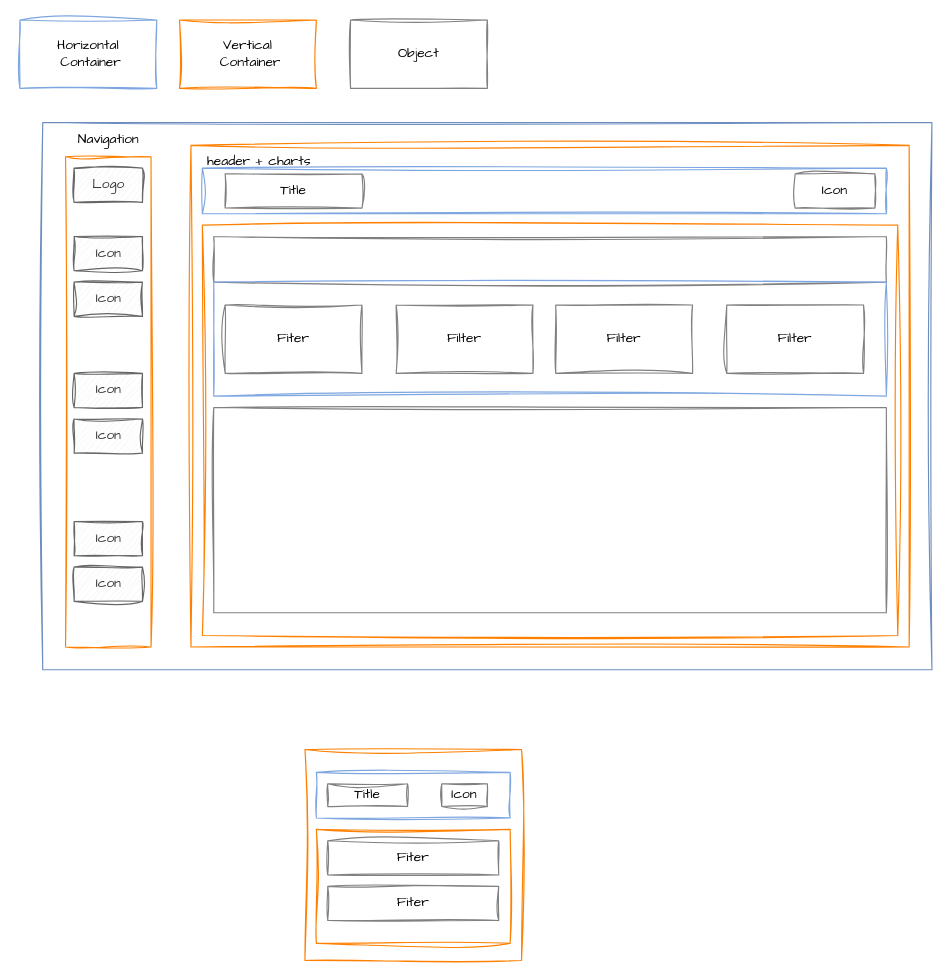
Some shapes in this 952 by 980 pixel diagram are drawn without their labels. Here are the shapes that lost their labels. From the top down, the centre of each, then its label:
point (549, 258): Employees List
point (549, 509): List
